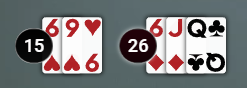6: (145, 16, 166, 39), (42, 16, 62, 40)
9: (61, 17, 83, 41)
j: (166, 16, 187, 41)
q: (185, 16, 209, 41)
